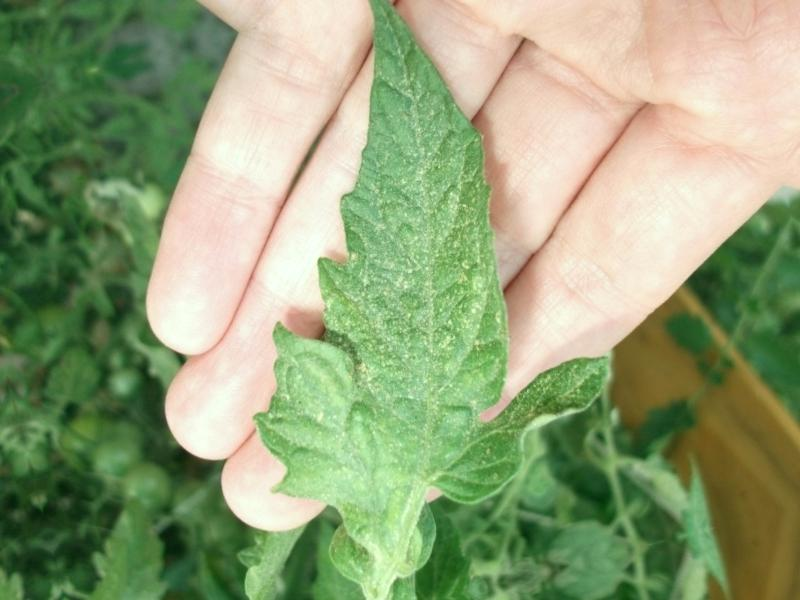Tomato mold leaf: (188, 0, 649, 573)
